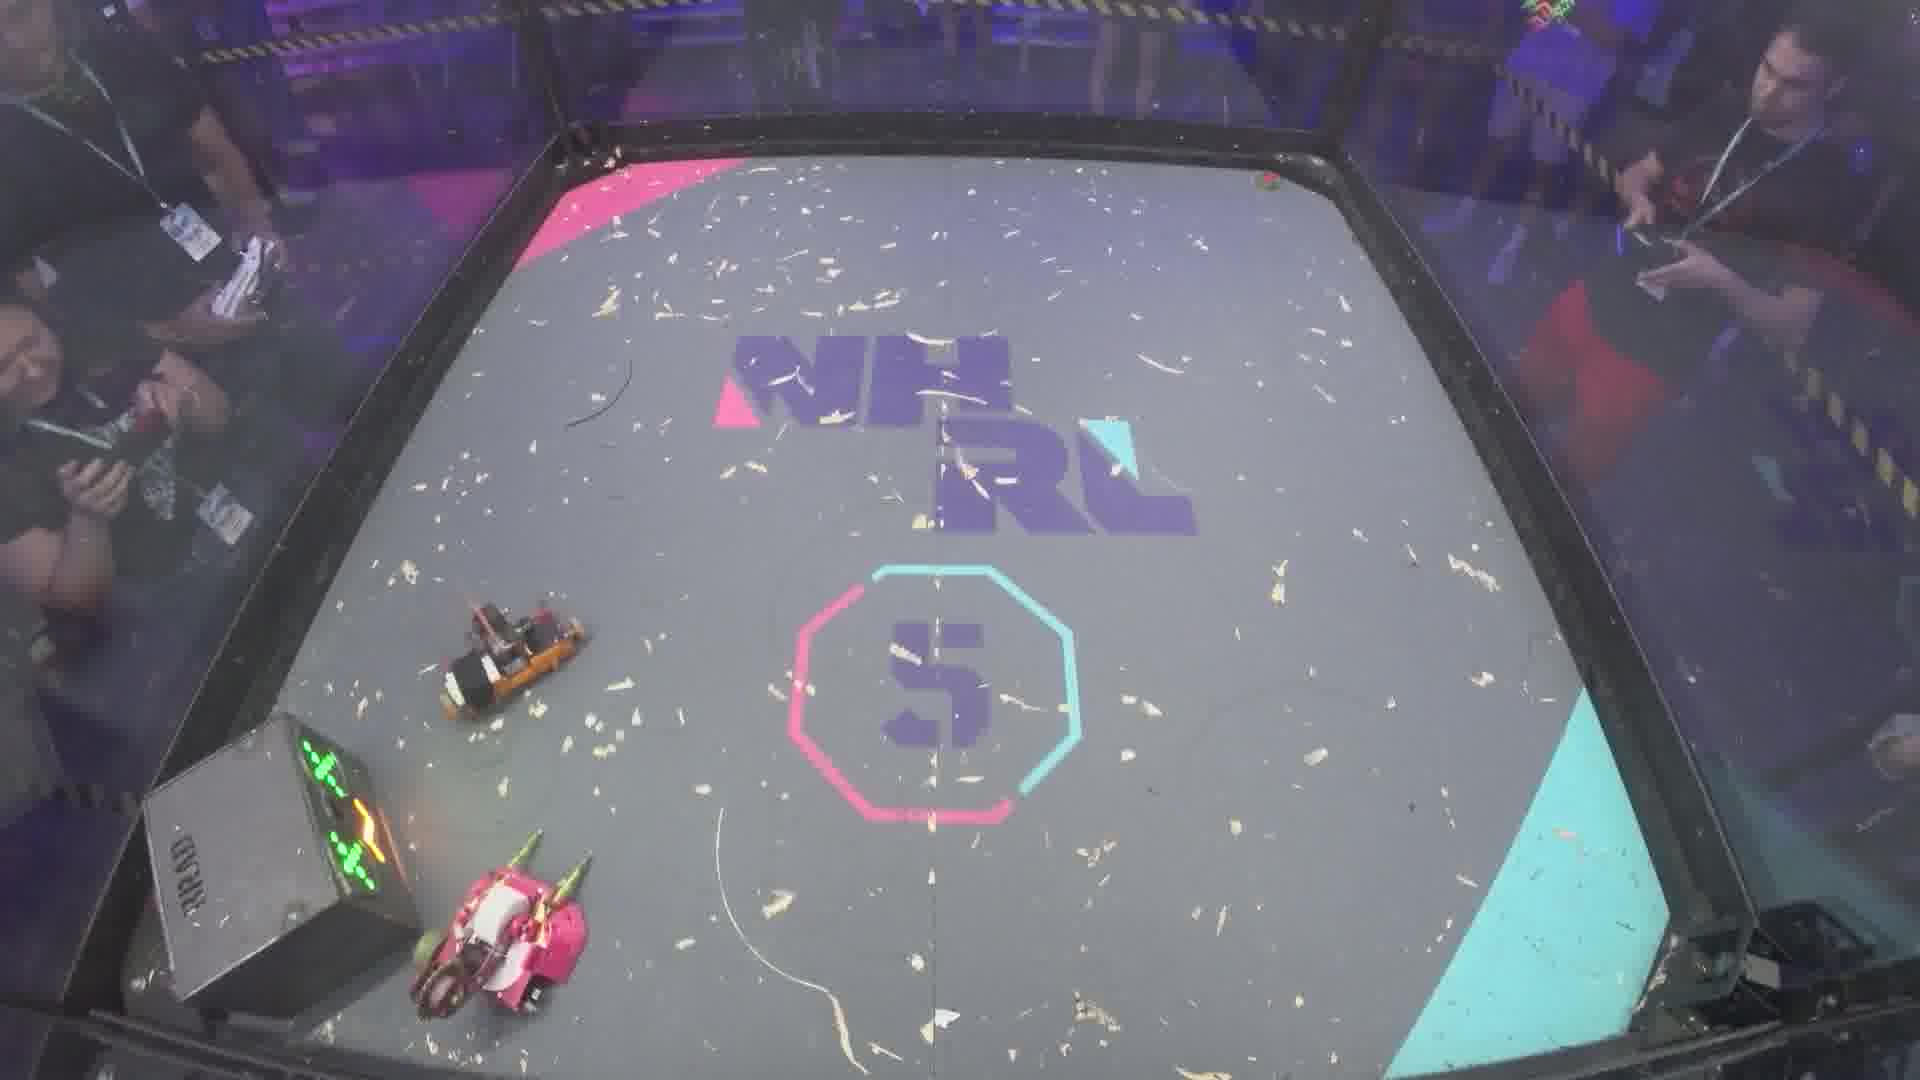belt: (567, 361, 636, 426)
combatbot: (414, 877, 589, 1019), (435, 593, 591, 725)
housebot: (137, 707, 429, 1015)
